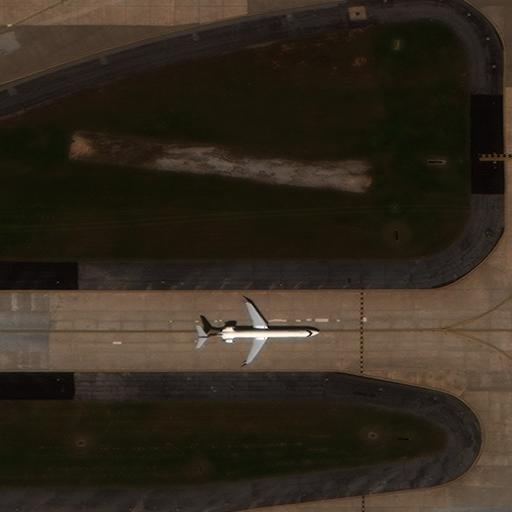Medium Civil Transport: (193, 297, 322, 366)
